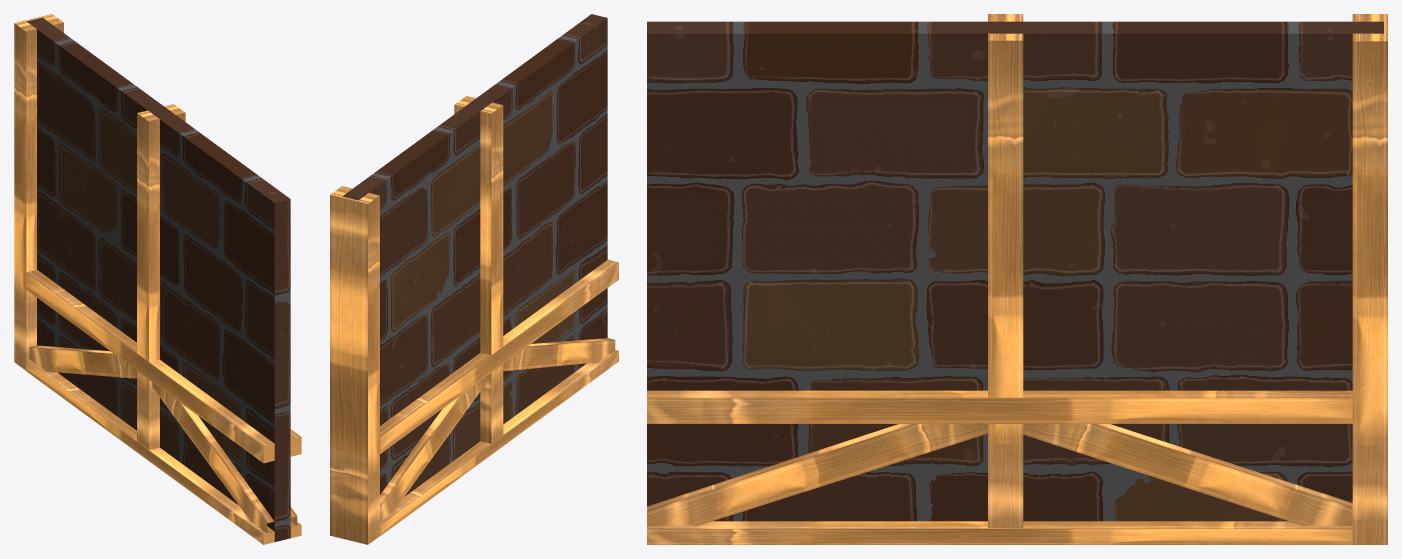
Rendered from SM_Large_Wall_01.fbx.
The picture shows the model from 3 angles, left to right: view 1: azimuth 30°, elevation 25°; view 2: azimuth 150°, elevation 25°; view 3: azimuth 270°, elevation 25°; orthographic projection. The views are drawn at different scales.
Visible parts, largest first — view 1: SM_Large_Wall_01; view 2: SM_Large_Wall_01; view 3: SM_Large_Wall_01.
Boxes of the visible parts, x1,y1,x2,y2 form: SM_Large_Wall_01: (14, 14, 301, 544); SM_Large_Wall_01: (330, 14, 618, 544); SM_Large_Wall_01: (647, 14, 1387, 544).
Bounding box in the file's own units: 35.24 × 300 × 400.
